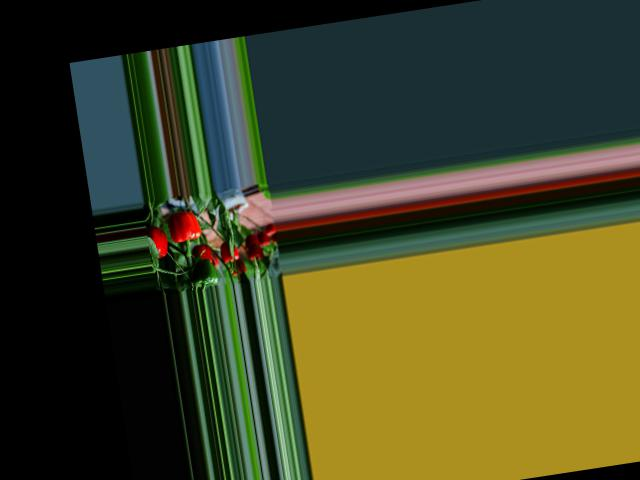bell_pepper: (218, 234, 242, 268)
